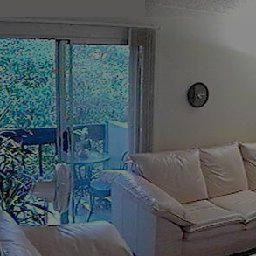Otro Obstaculo: (27, 162, 70, 227)
